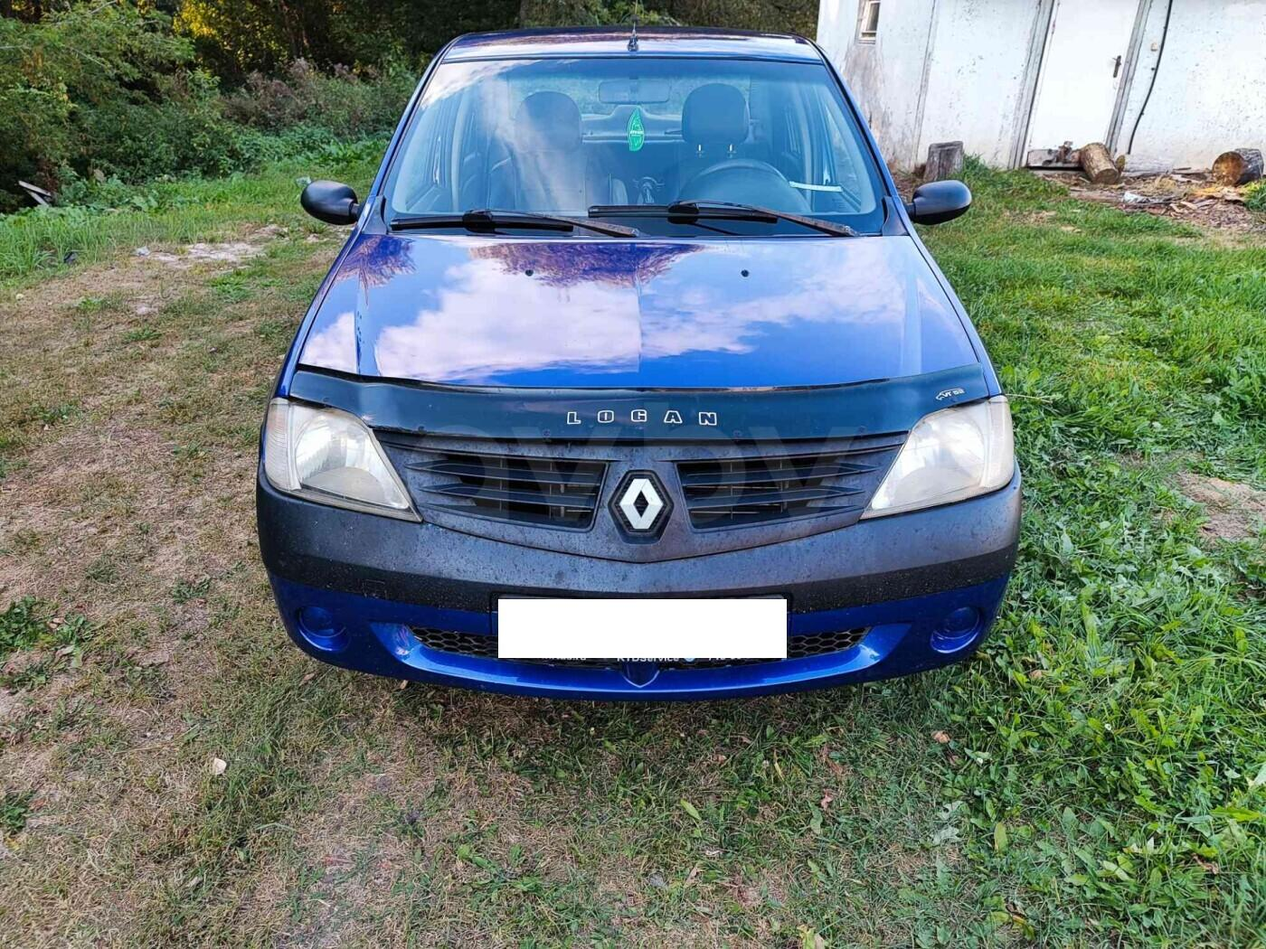Logan_2004-2009: (252, 22, 1027, 692)
